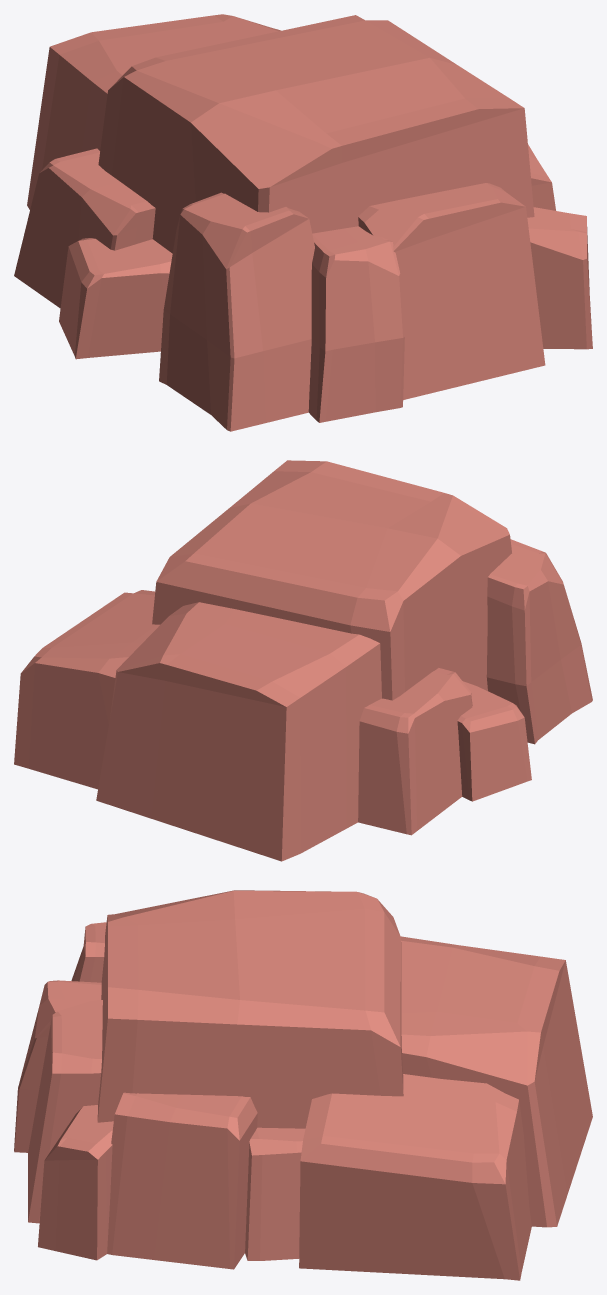
File: Desert_Stone_MountRed.fbx
The picture shows the model from 3 angles, top to bottom: view 1: azimuth 30°, elevation 25°; view 2: azimuth 150°, elevation 25°; view 3: azimuth 270°, elevation 25°; orthographic projection. The views are drawn at different scales.
Parts seen in each view (by area): view 1: Desert_Stone_MountRed; view 2: Desert_Stone_MountRed; view 3: Desert_Stone_MountRed.
Part boxes in pixels (x1,y1,x2,y2): Desert_Stone_MountRed: (14, 14, 592, 431); Desert_Stone_MountRed: (14, 460, 592, 861); Desert_Stone_MountRed: (14, 890, 592, 1280).
Size of the model in its own units: 1168 by 1293 by 563.
